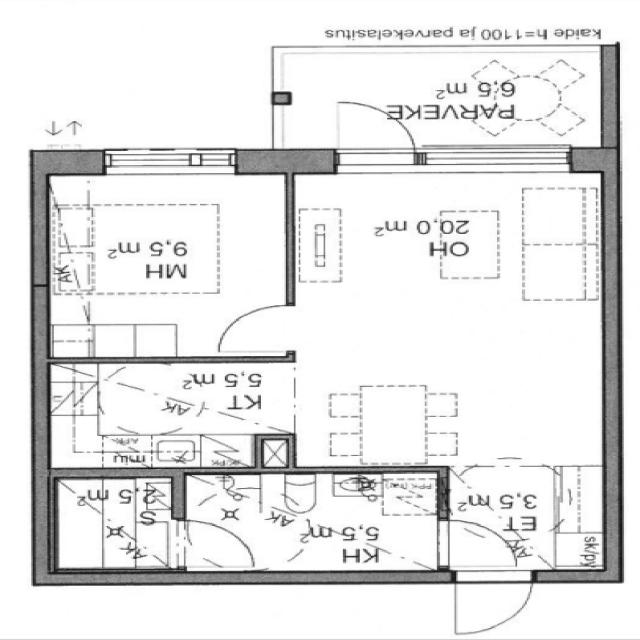door: (441, 515, 530, 598), (328, 98, 426, 167), (207, 297, 298, 358), (179, 515, 253, 567)
window: (413, 141, 573, 173), (97, 144, 243, 176)
zone: (289, 155, 627, 475), (40, 165, 296, 356), (178, 470, 442, 574), (42, 361, 283, 471), (437, 468, 603, 575), (49, 472, 180, 572), (444, 523, 542, 635)
